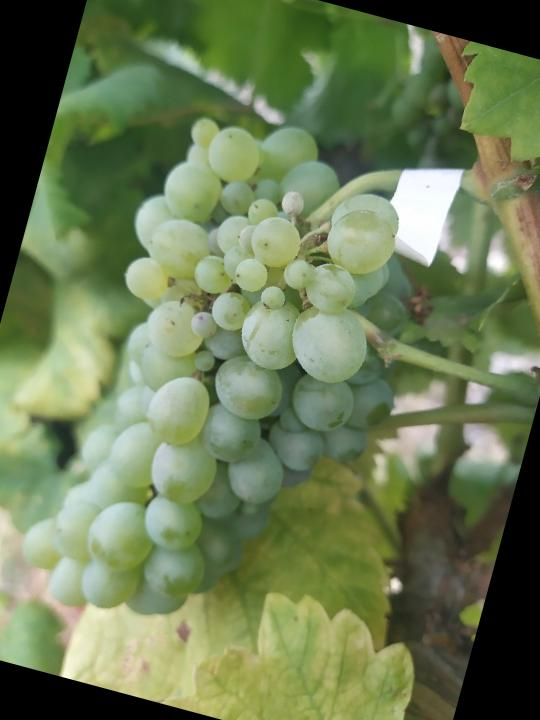grape: (7, 83, 460, 679)
